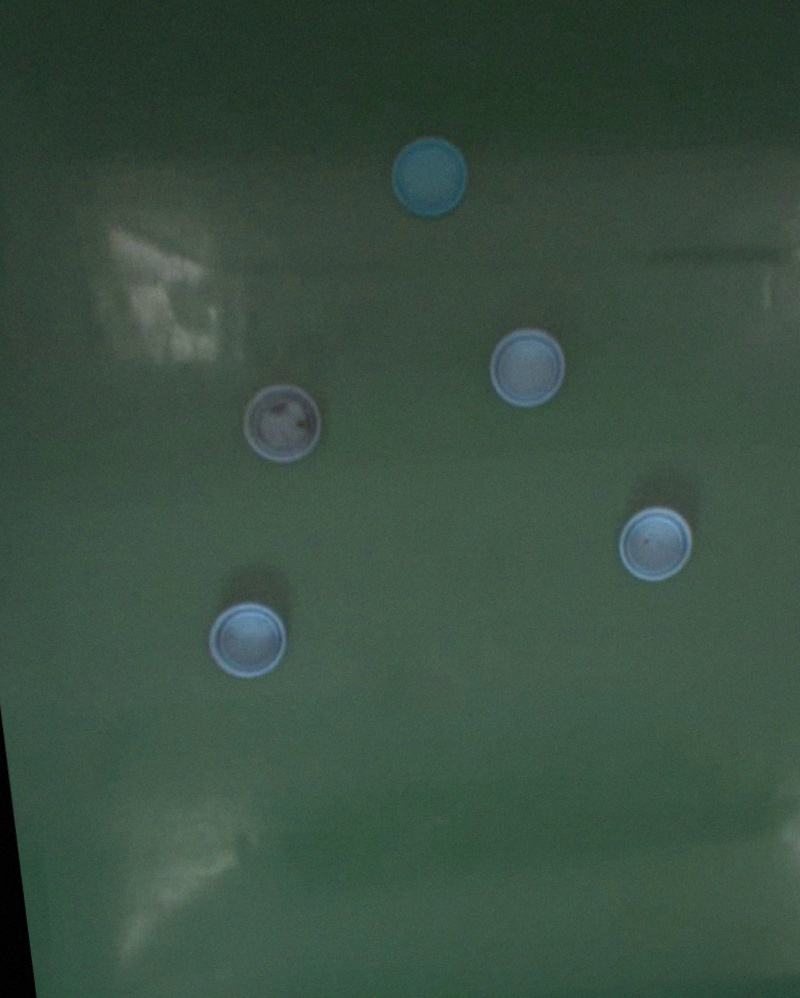Light Blue: (380, 129, 474, 225), (482, 321, 574, 414), (237, 375, 329, 468), (609, 499, 701, 587), (203, 596, 293, 683)
